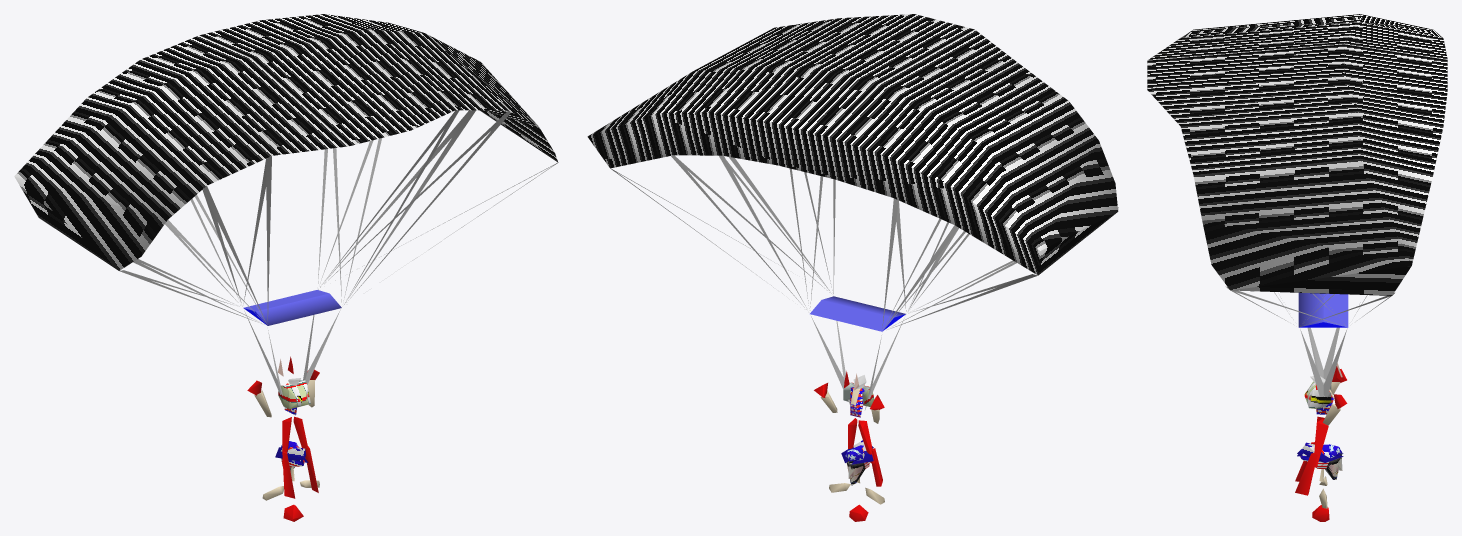
Rendered from uvmd-0337.glb.
3 renders of one model, left to right at view 1: azimuth 30°, elevation 25°; view 2: azimuth 150°, elevation 25°; view 3: azimuth 270°, elevation 25°, orthographic. The views are drawn at different scales.
Visible parts, largest first — view 1: part-18, part-19, part-01; view 2: part-18, part-19, part-01; view 3: part-18, part-19, part-15, part-16, part-01, part-17, part-10, part-09.
Boxes of the visible parts, x1,y1,x2,y2 form: part-18: (14,14,557,270); part-19: (119,110,558,325); part-01: (278,378,310,415); part-18: (587,14,1118,275); part-19: (611,155,1118,331); part-01: (843,375,874,417); part-18: (1147,14,1447,295); part-19: (1225,286,1394,327); part-15: (1300,444,1342,482); part-16: (1300,328,1347,409); part-01: (1304,376,1333,414); part-17: (1307,327,1339,379); part-10: (1295,453,1317,495); part-09: (1314,418,1328,467).
Size of the model in its own units: 626 by 596 by 351.
26 materials, 26 textured.
